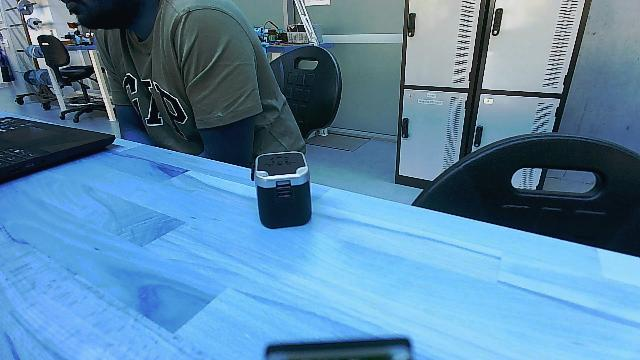adapter: (248, 146, 320, 232)
